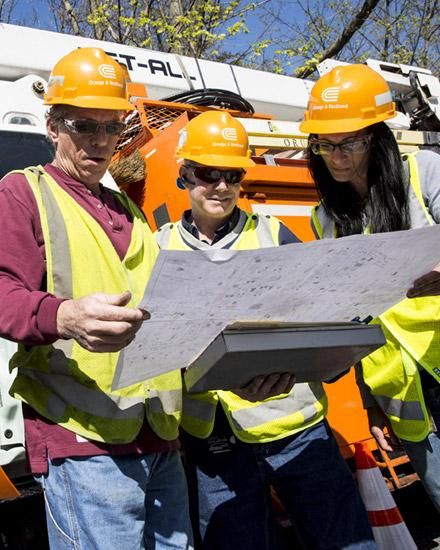helmet: (298, 64, 393, 137), (43, 49, 136, 117), (179, 109, 257, 171)
